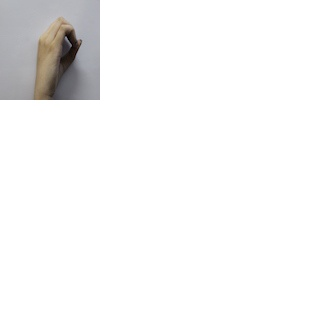rock: (31, 11, 83, 90)
